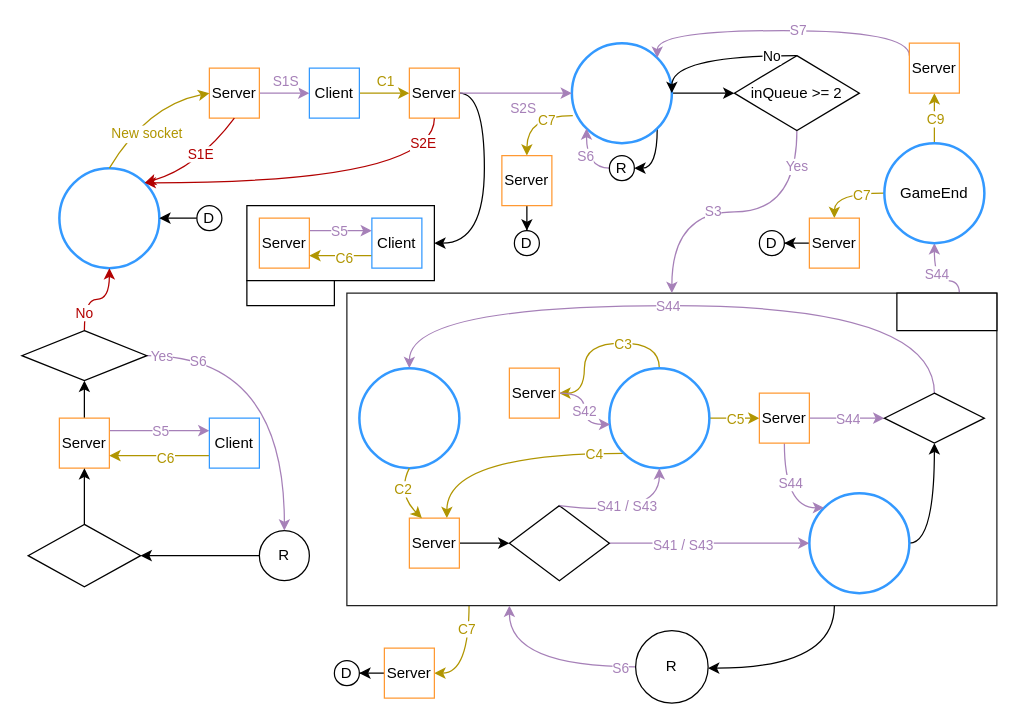
The diagram is 1019 pixels wide and 725 high, and some of its shapes have lost their labels. Each missing label, with the centre of its shape:
"GAME" goes at (946,311).
"LastMess > 5 sec" goes at (84,555).
"Login" goes at (109,217).
"MaxScore > 0" goes at (558,542).
"No C6 for 30 sec" goes at (84,355).
"Ping-Pong" goes at (290,292).
"Queue" goes at (621,92).
"Select" goes at (659,417).
"Switch true" goes at (933,417).
"Throw" goes at (409,417).
"Wait" goes at (859,542).
